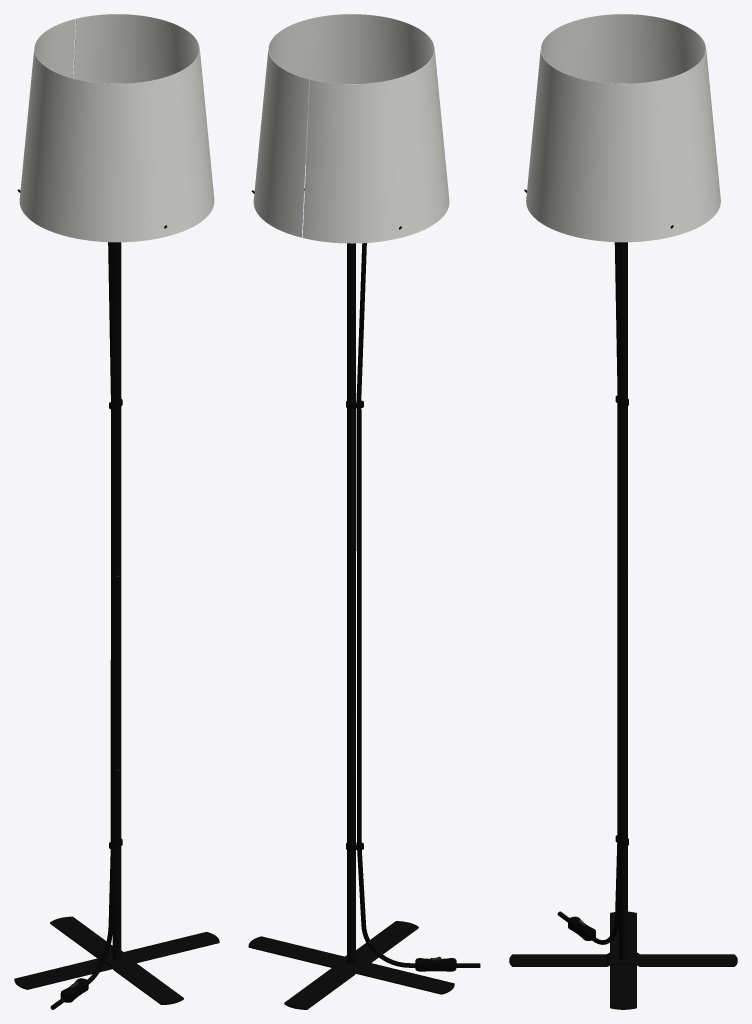
Rendered from barlast_floor_lamp_black_white.glb.
3 renders of one model, left to right at view 1: azimuth 30°, elevation 25°; view 2: azimuth 150°, elevation 25°; view 3: azimuth 270°, elevation 25°, orthographic.
Visible parts, largest first — view 1: 10430368-BARLAST001; view 2: 10430368-BARLAST001; view 3: 10430368-BARLAST001.
Boxes of the visible parts, x1=… form: 10430368-BARLAST001: x1=14, y1=14, x2=219, y2=1009; 10430368-BARLAST001: x1=248, y1=14, x2=480, y2=1009; 10430368-BARLAST001: x1=509, y1=14, x2=737, y2=1009.
Bounding box in the file's own units: 0.34 × 1.5 × 0.34.
1 material, 1 textured.
